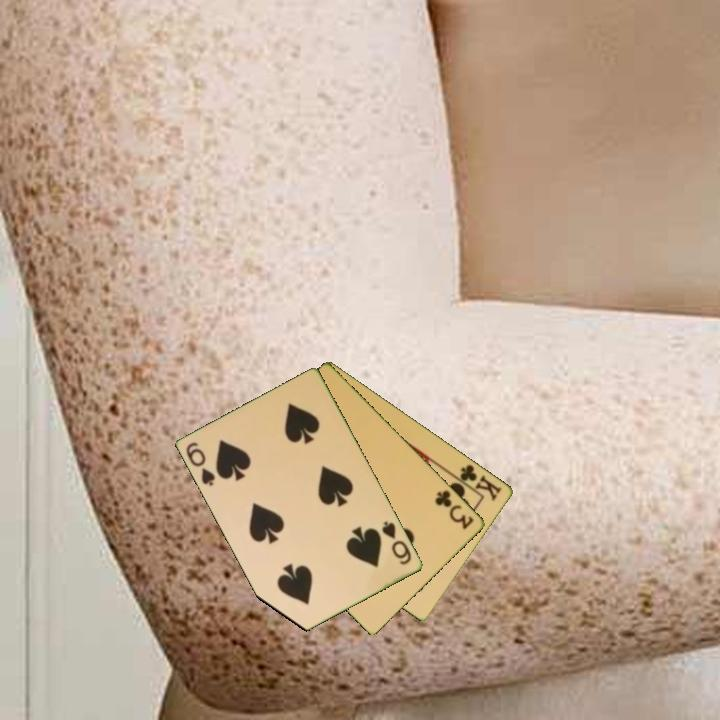3c: (432, 486, 477, 533)
6s: (378, 517, 415, 568), (183, 439, 219, 489)
Kc: (451, 461, 505, 504)
